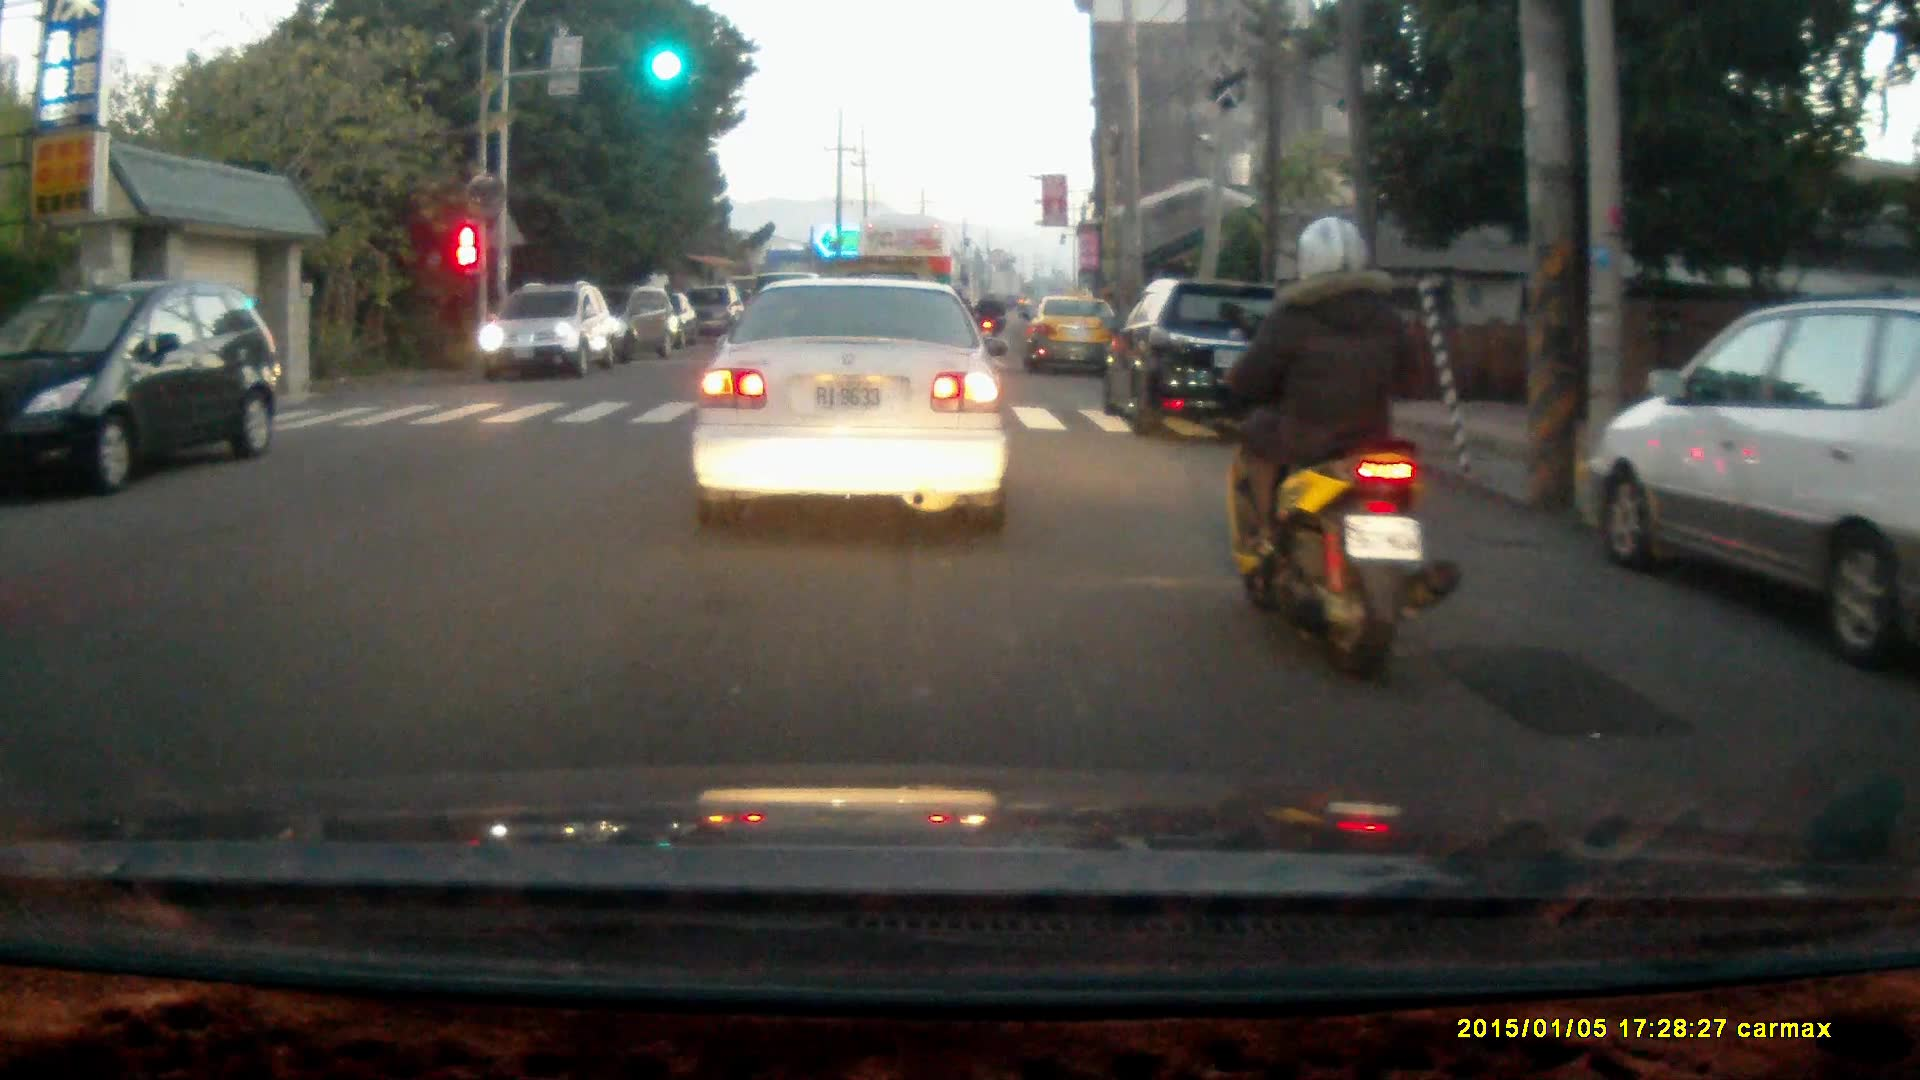rider: (1212, 213, 1463, 685)
vehicle: (1593, 295, 1920, 664), (689, 270, 1012, 535), (1, 278, 279, 509), (1096, 276, 1316, 442), (853, 212, 960, 363), (478, 284, 616, 386), (560, 280, 681, 364), (1024, 292, 1125, 380)
